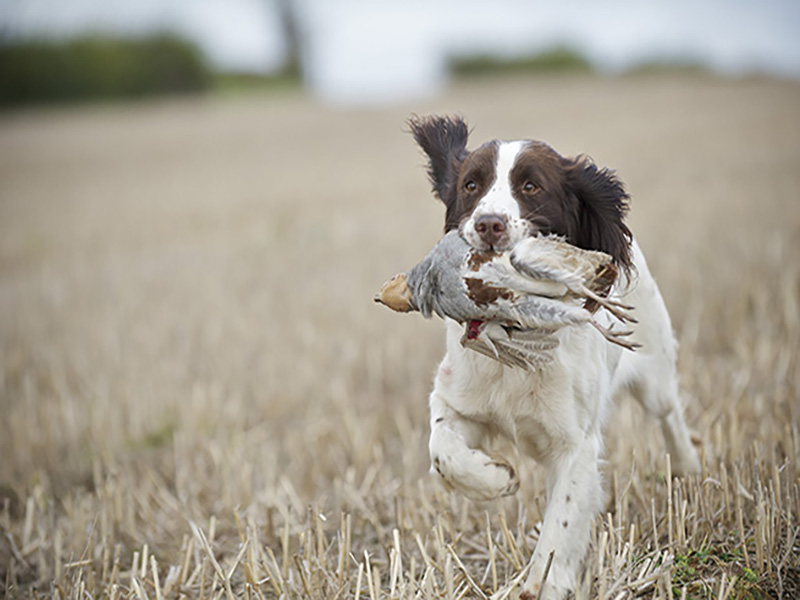cane da caccia: (397, 113, 713, 595)
